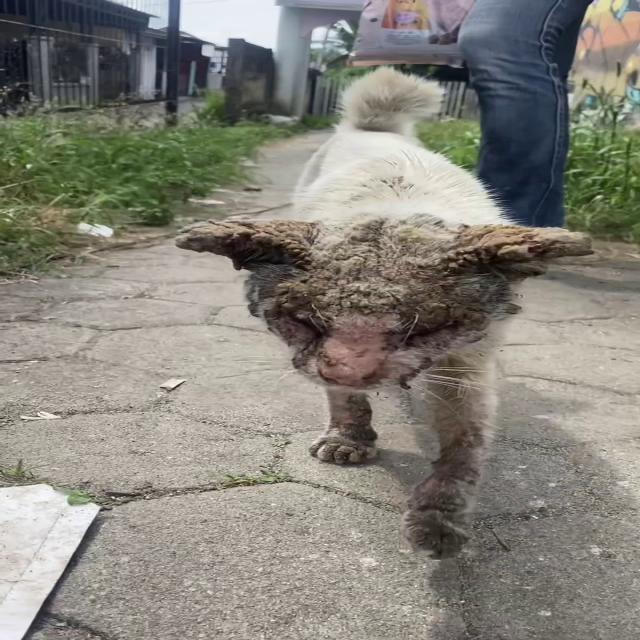ghe: (324, 228, 435, 322), (273, 265, 377, 352), (222, 225, 352, 270), (425, 224, 538, 265)
